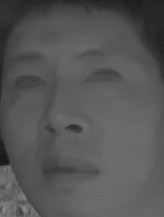eye: (84, 64, 126, 90), (12, 71, 50, 94)
mouth: (38, 153, 99, 191)
